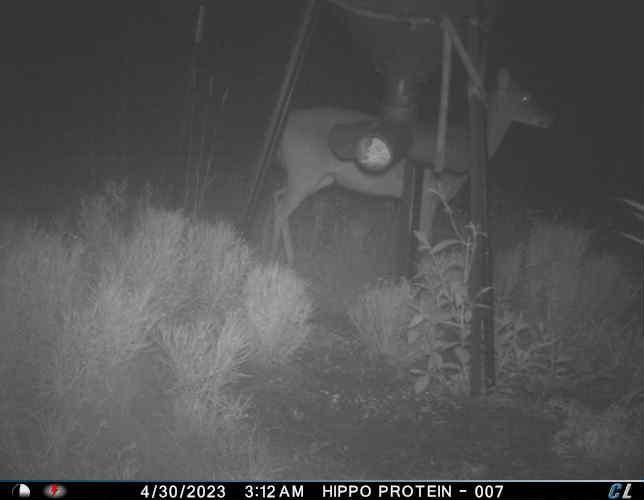Deer: (268, 66, 554, 265)
